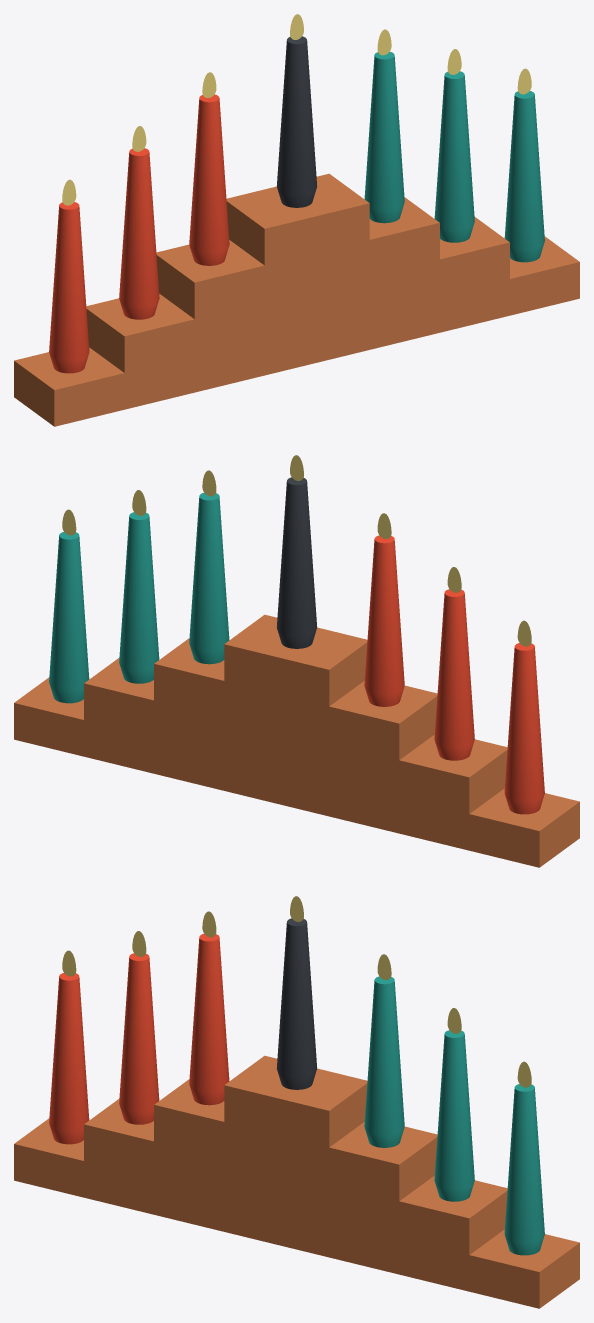
Rendered from kwanzaaKinara.fbx.
3 views of the same model, one above another, from view 1: azimuth 30°, elevation 25°; view 2: azimuth 150°, elevation 25°; view 3: azimuth 330°, elevation 25° (orthographic).
Parts seen in each view (by area): view 1: kwanzaaKinara; view 2: kwanzaaKinara; view 3: kwanzaaKinara.
Boxes of the visible parts, x1,y1,x2,y2 form: kwanzaaKinara: (14, 14, 579, 426); kwanzaaKinara: (14, 455, 579, 867); kwanzaaKinara: (14, 896, 579, 1308).
Size of the model in its own units: 3.75 by 2.28 by 0.5.
